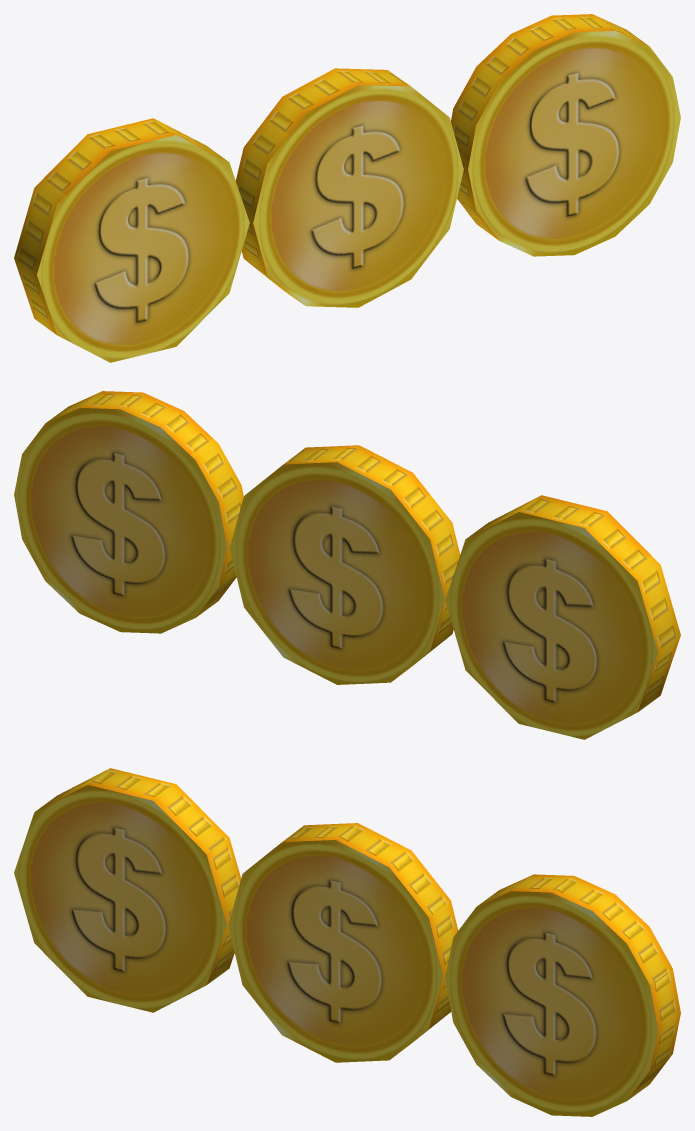
File: Coin.fbx
3 views of the same model, one above another, from view 1: azimuth 30°, elevation 25°; view 2: azimuth 150°, elevation 25°; view 3: azimuth 330°, elevation 25° (orthographic).
Parts seen in each view (by area): view 1: pCylinder4, pCylinder3, pCylinder2; view 2: pCylinder4, pCylinder2, pCylinder3; view 3: pCylinder4, pCylinder2, pCylinder3.
Part boxes in pixels (x1,y1,x2,y2): pCylinder4: [451, 14, 680, 256]; pCylinder3: [14, 118, 249, 362]; pCylinder2: [236, 68, 463, 307]; pCylinder4: [14, 391, 243, 633]; pCylinder2: [229, 445, 460, 684]; pCylinder3: [445, 495, 680, 739]; pCylinder4: [445, 874, 680, 1116]; pCylinder2: [228, 823, 458, 1062]; pCylinder3: [14, 768, 241, 1012].
Bounding box in the file's own units: 45.48 × 15.04 × 3.06.
